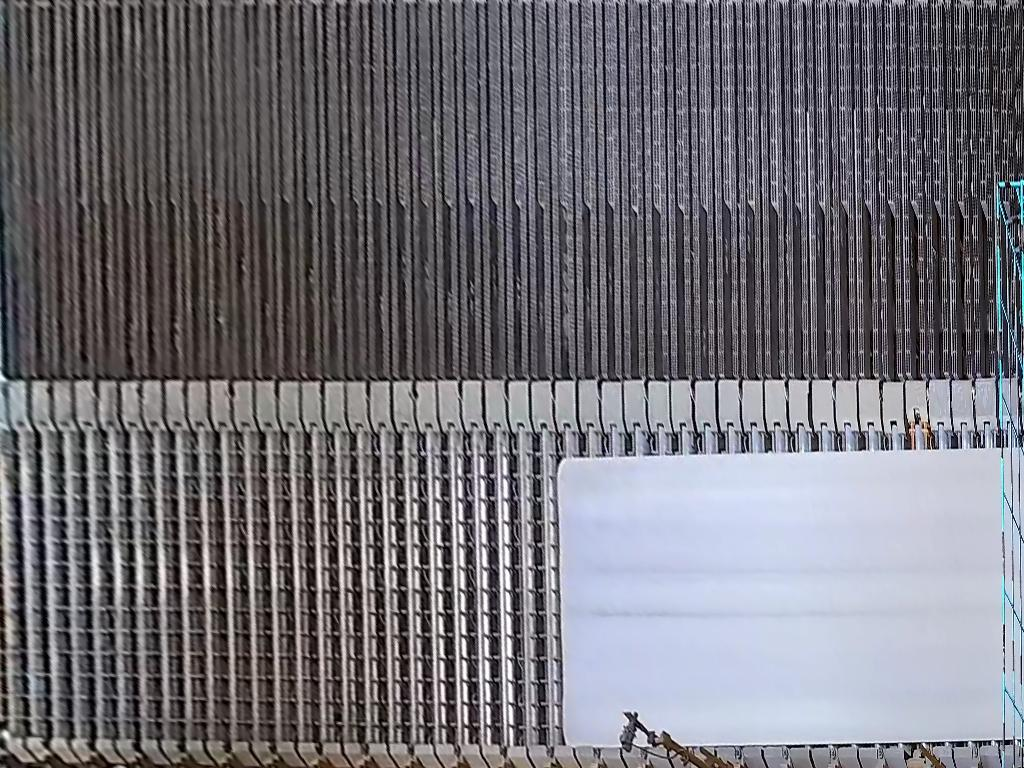steel: (558, 448, 1024, 749)
